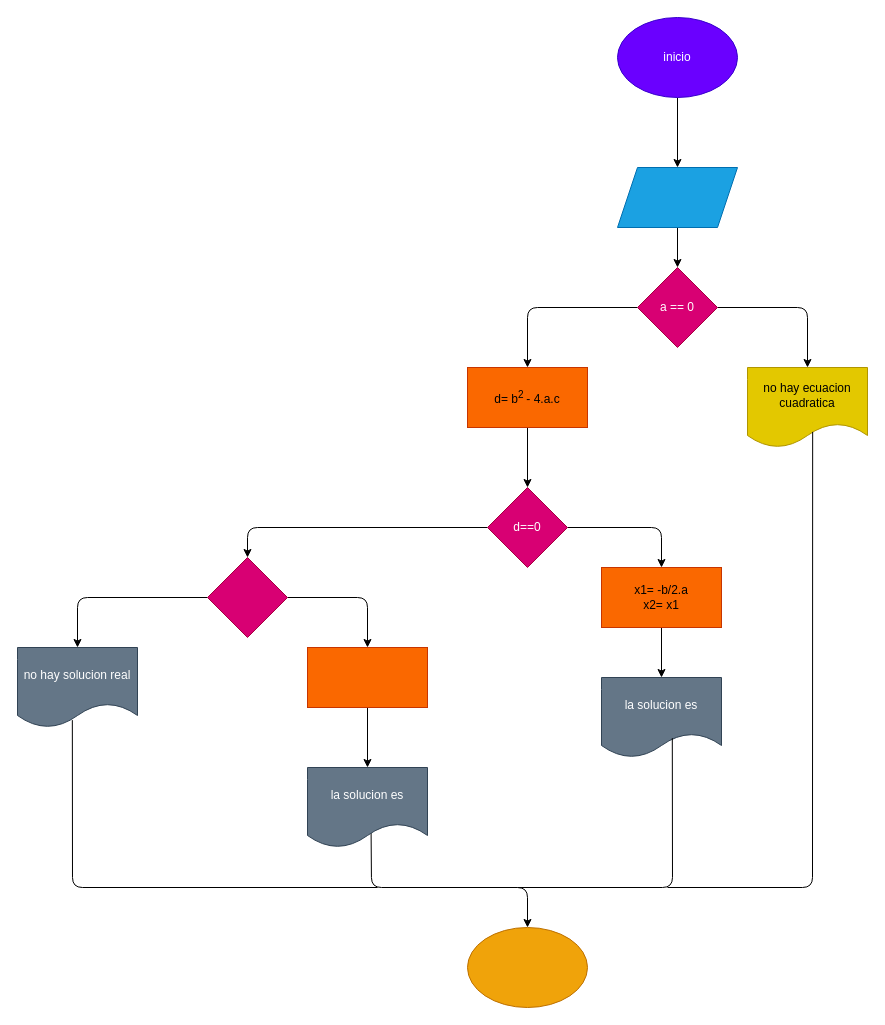
Image size: 885x1025. Some labels were removed from this diagram. Each missing label, with the box of its shape:
a , b , c: (616, 166, 738, 228)
d>0: (206, 556, 288, 638)
final: (466, 926, 588, 1008)
x1=(-b+sqrt(d))/2.a: (306, 646, 428, 708)
